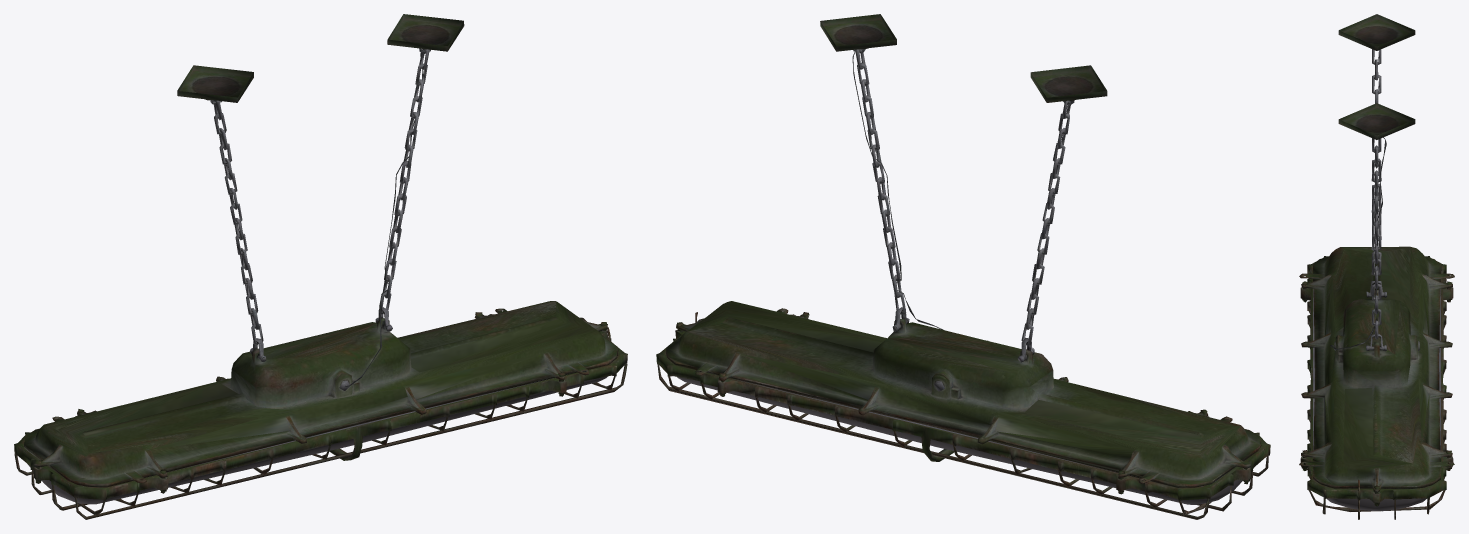
Rendered from caged_hanging_light.glb.
3 renders of one model, left to right at view 1: azimuth 30°, elevation 25°; view 2: azimuth 150°, elevation 25°; view 3: azimuth 270°, elevation 25°, orthographic. The views are drawn at different scales.
Visible parts, largest first — view 1: caged_hanging_light; view 2: caged_hanging_light; view 3: caged_hanging_light.
Part boxes in pixels (x1=…): caged_hanging_light: x1=14, y1=14, x2=627, y2=519; caged_hanging_light: x1=656, y1=14, x2=1270, y2=519; caged_hanging_light: x1=1299, y1=14, x2=1454, y2=519.
Size of the model in its own units: 1.16 by 0.7501 by 0.315.
1 material, 1 textured.
